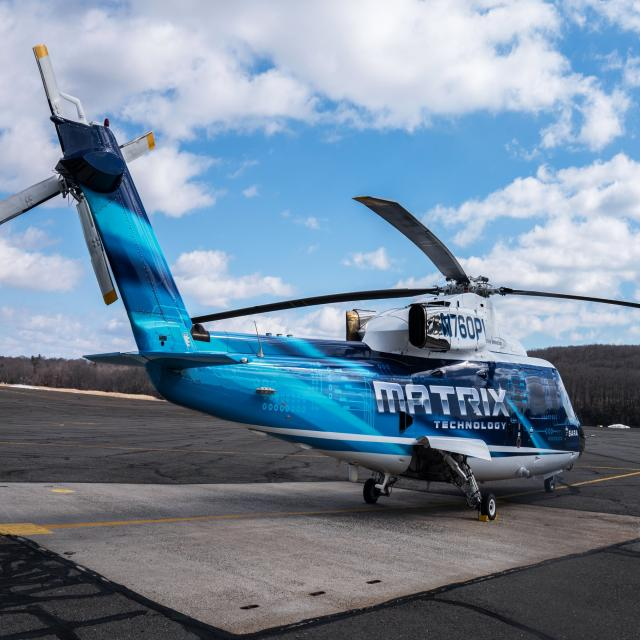helicopter: (2, 45, 640, 521)
